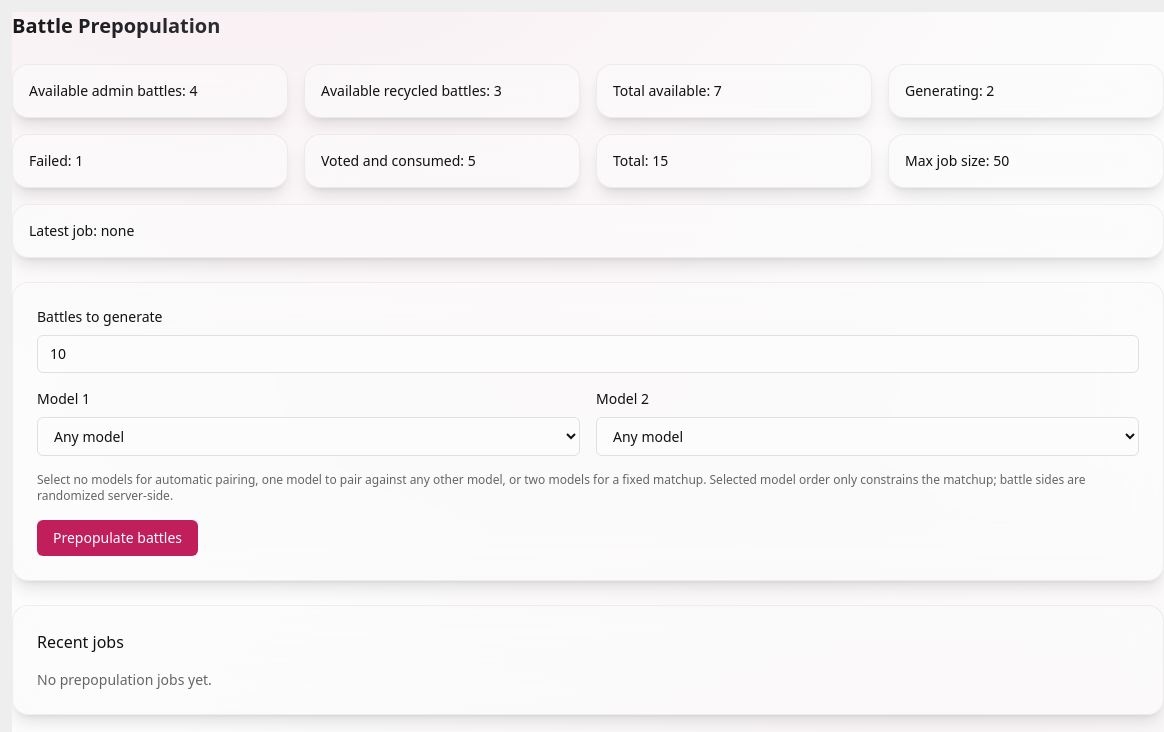
Scenario: AdminBattlePrepopulationRoute › rejects invalid amount 0 before submit
Expected: the text "Total available: 7" is shown, 613,81 -> 722,100
Replace the text in the number field labelled "Battles to generate" with "0" at (588, 354), box 37,335 -> 1139,373
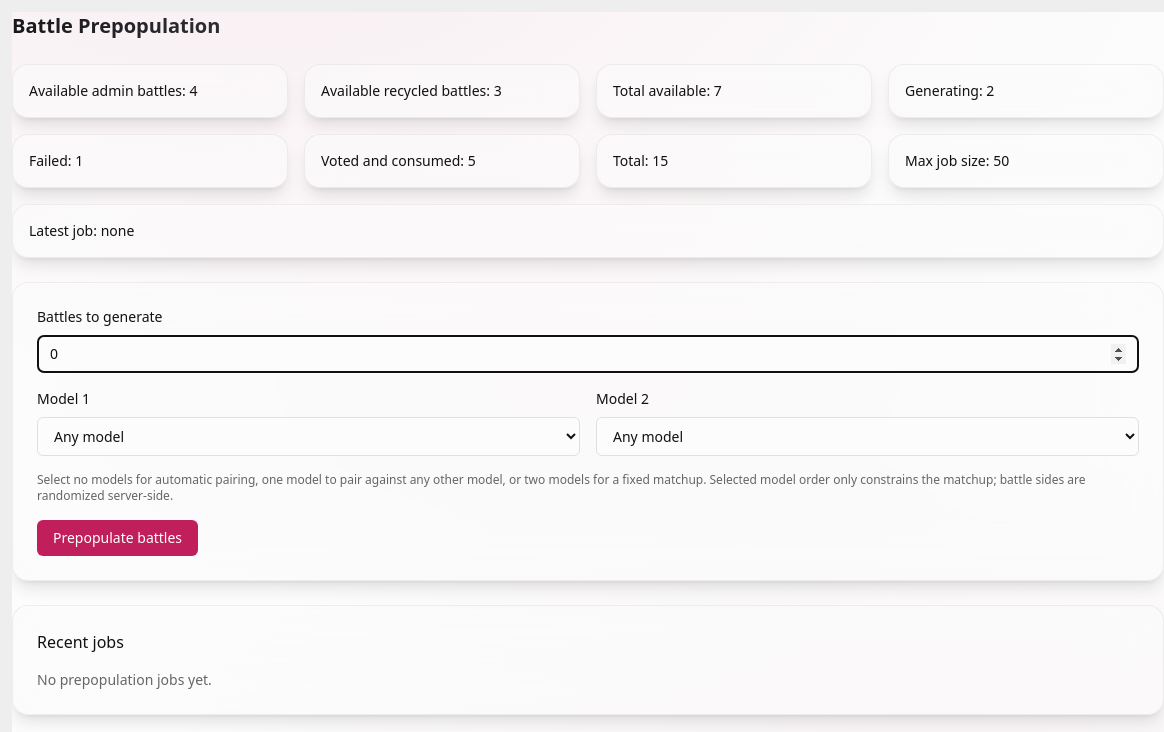
Click the button "Prepopulate battles" at (118, 538), box 37,520 -> 198,556
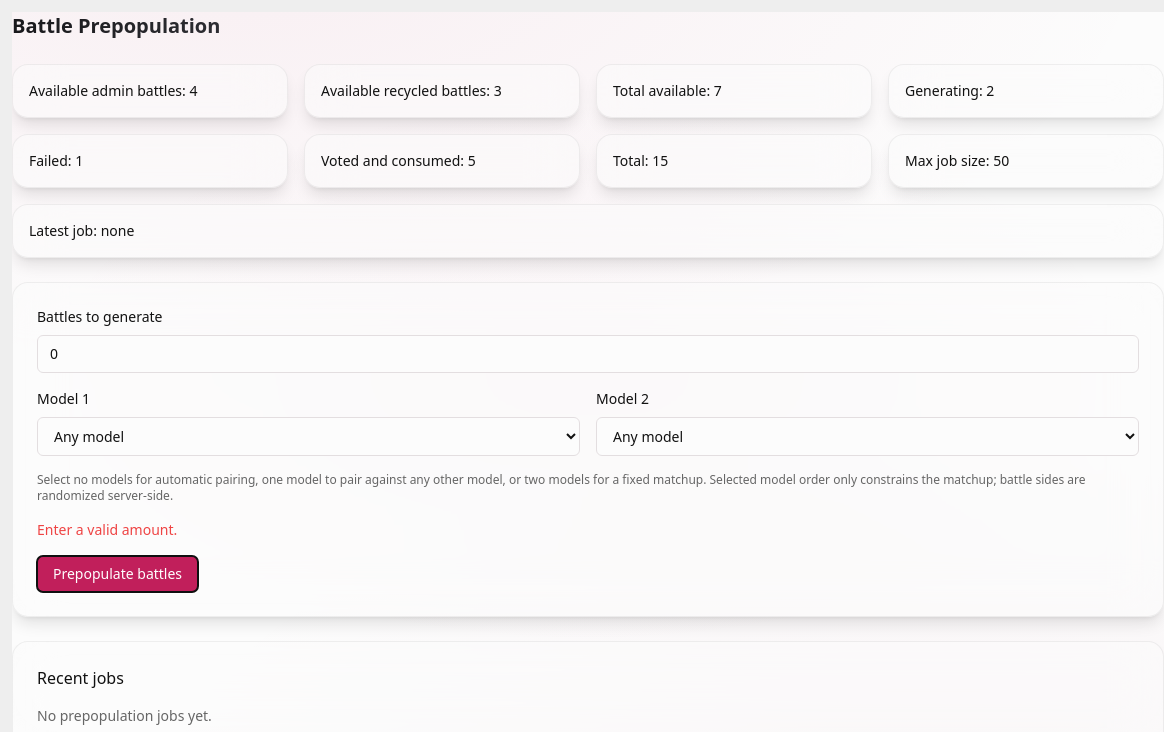
Result: the text "Enter a valid amount." is shown at 37,520 -> 177,539
